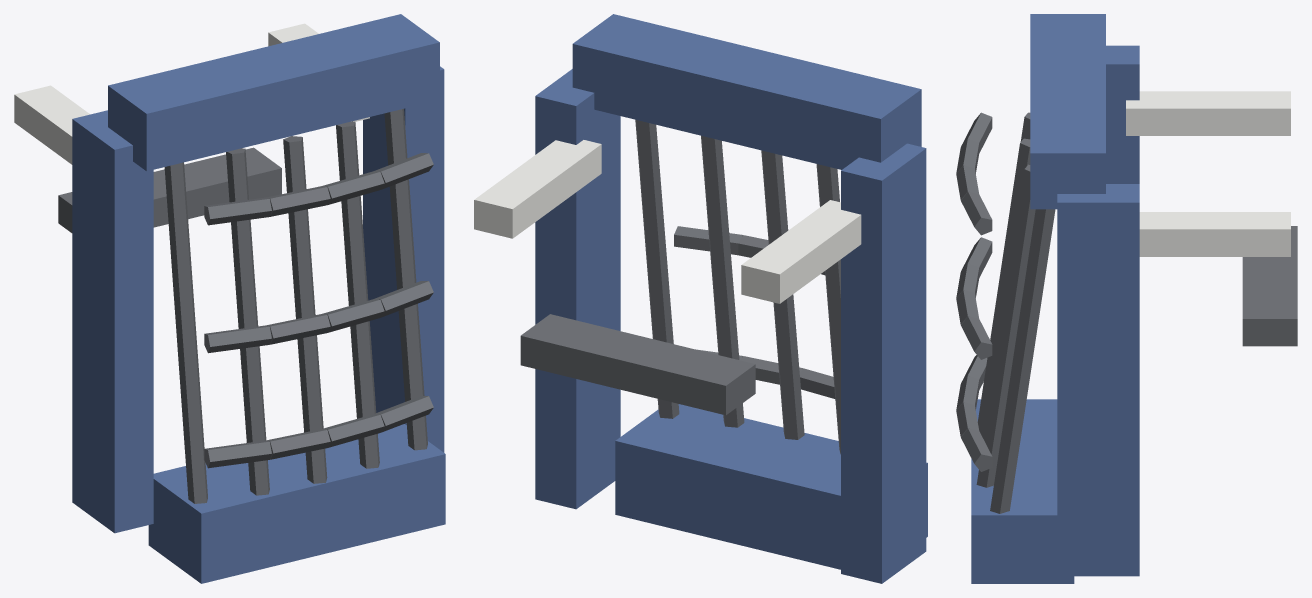
Rendered from baseball-park-and-batting-cages-catchers-mask-94765022__33766.glb.
3 renders of one model, left to right at view 1: azimuth 30°, elevation 25°; view 2: azimuth 150°, elevation 25°; view 3: azimuth 270°, elevation 25°, orthographic. The views are drawn at different scales.
Parts seen in each view (by area): view 1: catchers-mask; view 2: catchers-mask; view 3: catchers-mask.
Part boxes in pixels (left/top/right/bottom): catchers-mask: left=14, top=14, right=445, bottom=583; catchers-mask: left=474, top=14, right=927, bottom=583; catchers-mask: left=956, top=14, right=1297, bottom=583.
Bounding box in the file's own units: 0.27 × 0.355 × 0.2485.
